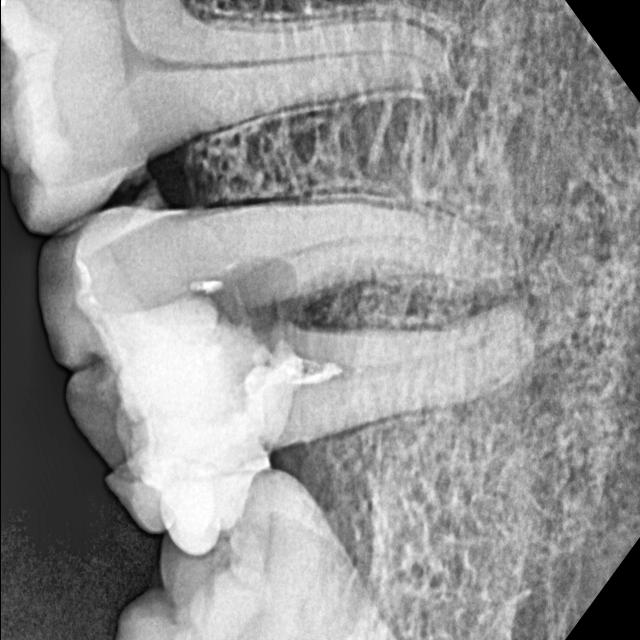Caries: (35, 183, 319, 540)
